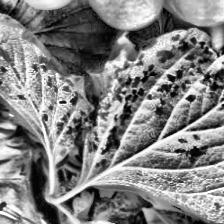Angular Leafspot: (79, 26, 224, 224), (0, 4, 94, 164), (55, 206, 165, 224)
